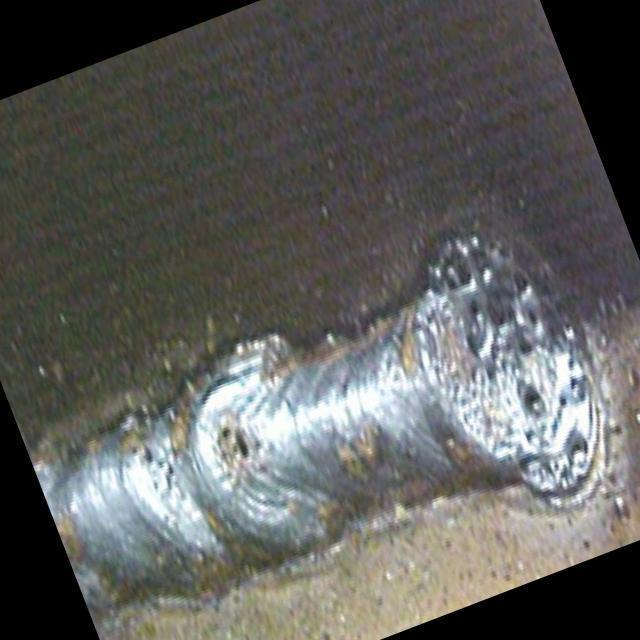defect: (433, 241, 561, 420), (134, 429, 186, 494), (216, 417, 260, 469)
